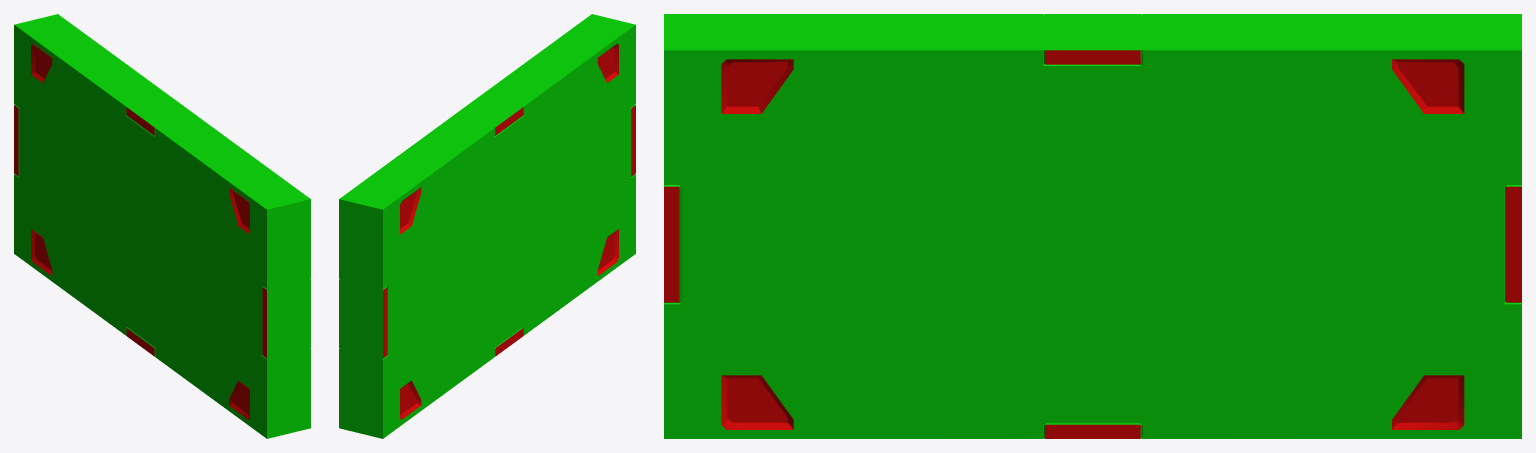
Rendered from MeWallStandard.FBX.
3 views of the same model, side by side, from view 1: azimuth 30°, elevation 25°; view 2: azimuth 150°, elevation 25°; view 3: azimuth 270°, elevation 25° (orthographic). The views are drawn at different scales.
Visible parts, largest first — view 1: MurBaseLP; view 2: MurBaseLP; view 3: MurBaseLP.
Part boxes in pixels (x1=…): MurBaseLP: x1=14, y1=14, x2=310, y2=438; MurBaseLP: x1=339, y1=14, x2=635, y2=438; MurBaseLP: x1=664, y1=14, x2=1521, y2=438.
Size of the model in its own units: 30.05 by 150 by 300.
